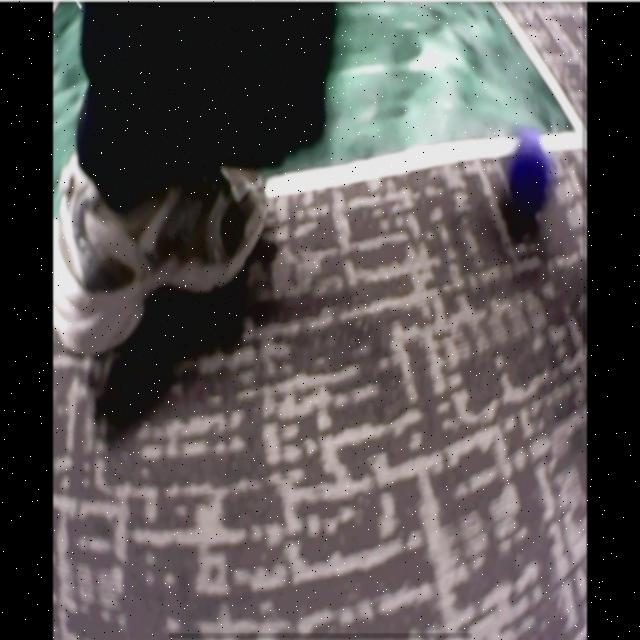ball: (507, 133, 550, 206)
